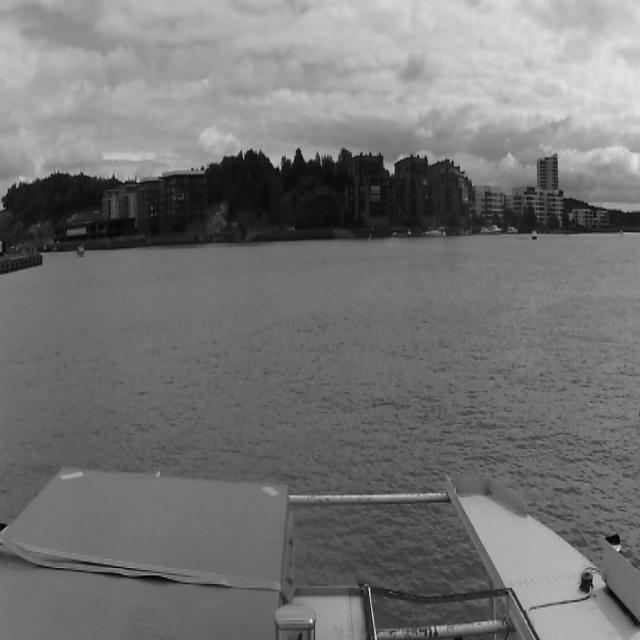ship: (424, 176, 448, 238), (75, 242, 85, 257), (492, 222, 502, 234), (508, 225, 518, 235), (480, 226, 490, 236), (530, 229, 538, 239)
